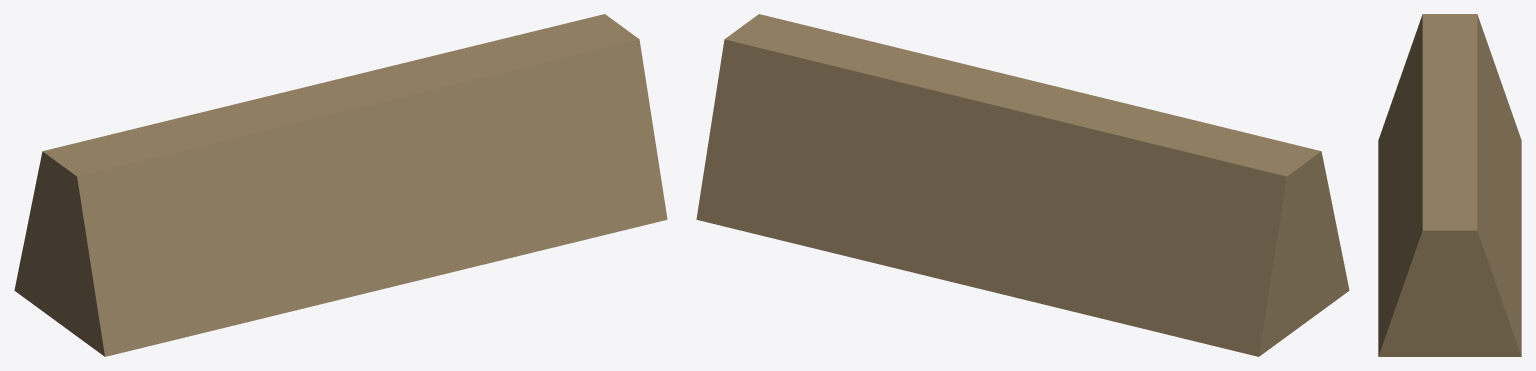
File: concret.fbx
3 renders of one model, left to right at view 1: azimuth 30°, elevation 25°; view 2: azimuth 150°, elevation 25°; view 3: azimuth 270°, elevation 25°, orthographic. The views are drawn at different scales.
Visible parts, largest first — view 1: Obj_cementblock; view 2: Obj_cementblock; view 3: Obj_cementblock.
Boxes of the visible parts, bbox=[...] form: Obj_cementblock: bbox=[14, 14, 667, 356]; Obj_cementblock: bbox=[696, 14, 1349, 356]; Obj_cementblock: bbox=[1378, 14, 1521, 356].
Bounding box in the file's own units: 258 × 69.99 × 71.92.
